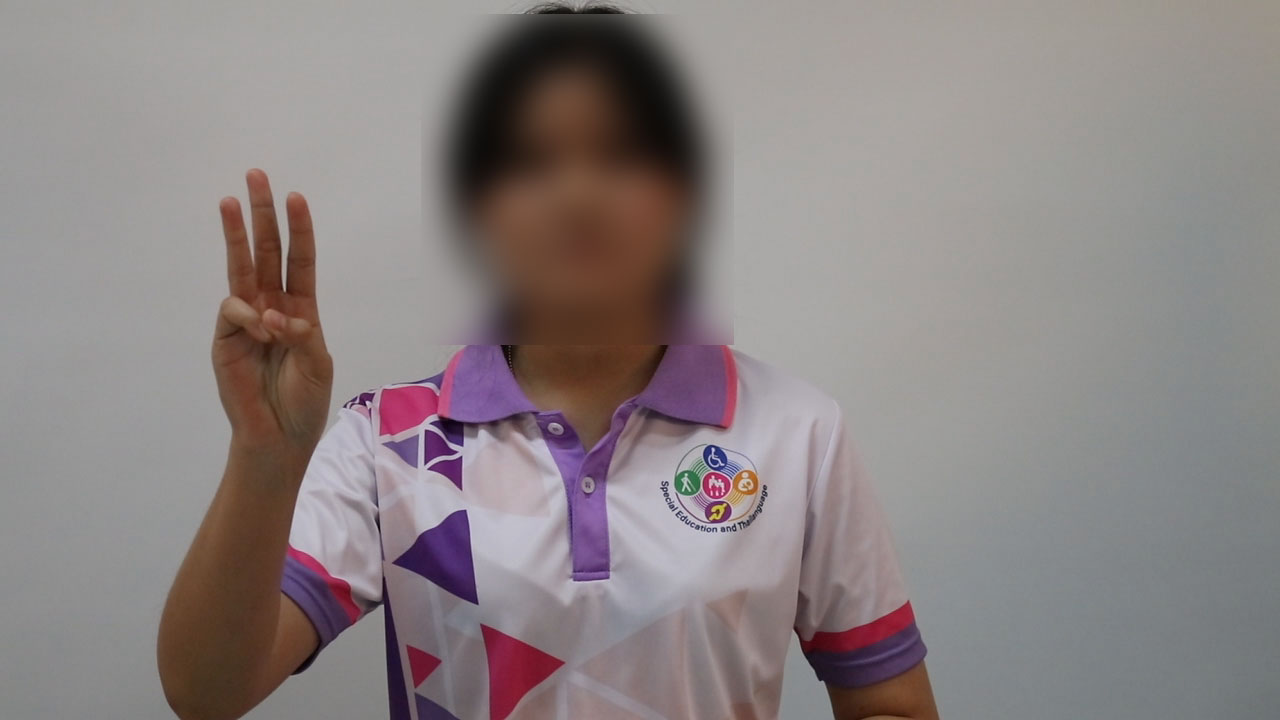wor: (196, 157, 345, 466)
